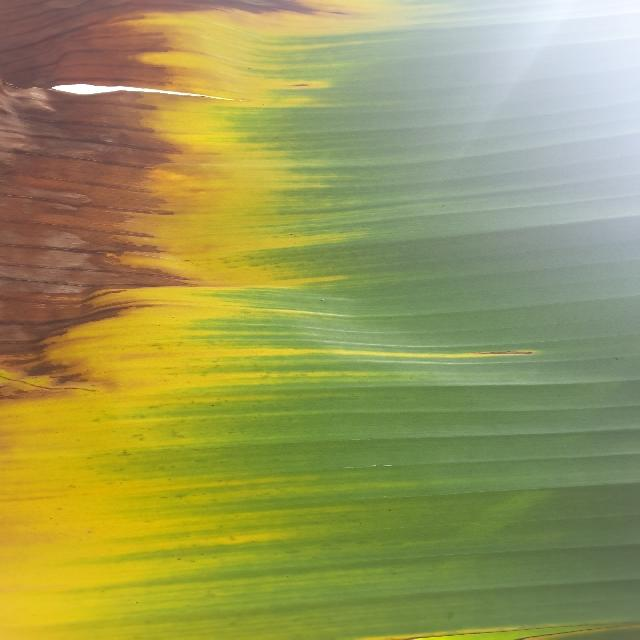Cordana: (0, 0, 550, 634)
